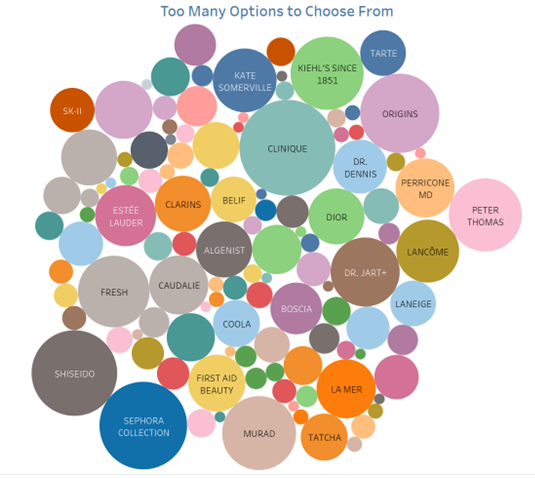

Layout of this report page (visuals, bound fields, positions):
{"tool":"tableau","page":{"name":"Title","canvas":[1000,1000],"units":"permille","ordinal":8},"visuals":[{"type":"image","param":"Image/cosmetic-store-aisle-stockcake.jpg","box":[5,10.1,990,489.9]},{"type":"text","box":[5,500,990,489.9]}]}

Visuals, with their boxes on the dashboard's canvas, which has no fixed pixel size, in thousandths of its width and height (x1, y1, x2, y2). These are canvas units, not pixel positions in the 535x478 screenshot, which may show the page scaled, cropped or inside an application window:
image: <region>5, 10, 995, 500</region>
text: <region>5, 500, 995, 990</region>
